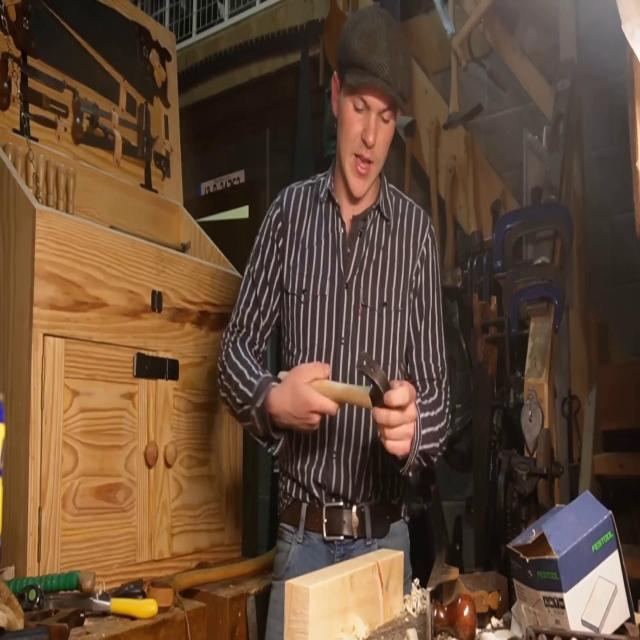hammer: (279, 354, 391, 406)
